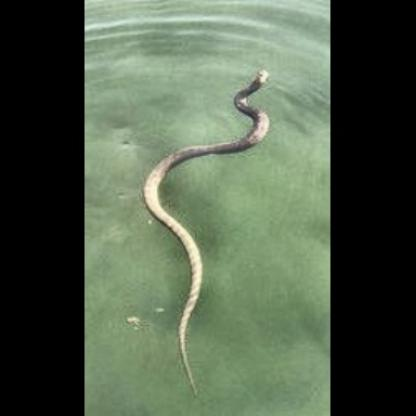Snake: (137, 63, 273, 388)
